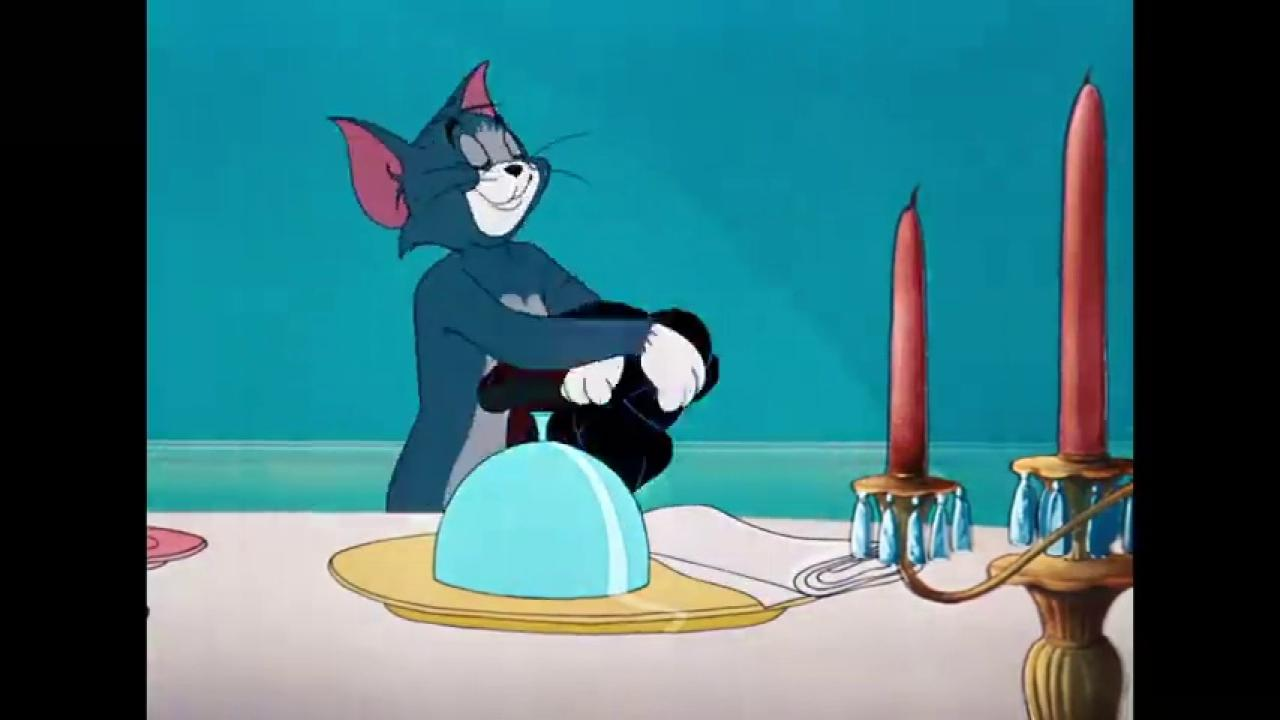Tom: (328, 59, 708, 513)
